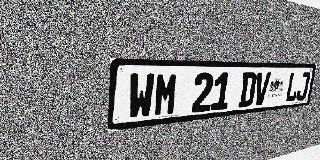1: (210, 73, 232, 111)
2: (191, 73, 214, 113)
D: (238, 72, 257, 107)
J: (295, 72, 311, 101)
L: (285, 72, 301, 102)
M: (153, 73, 179, 117)
V: (253, 72, 271, 106)
W: (127, 73, 155, 120)
